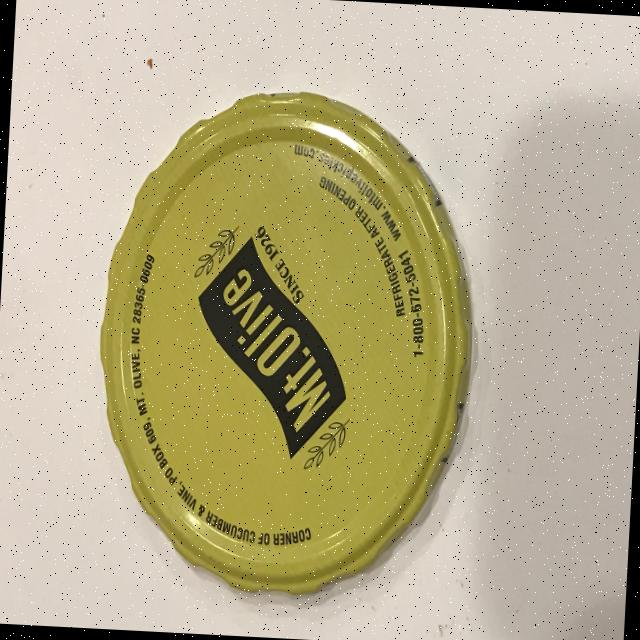metal: (86, 80, 488, 605)
